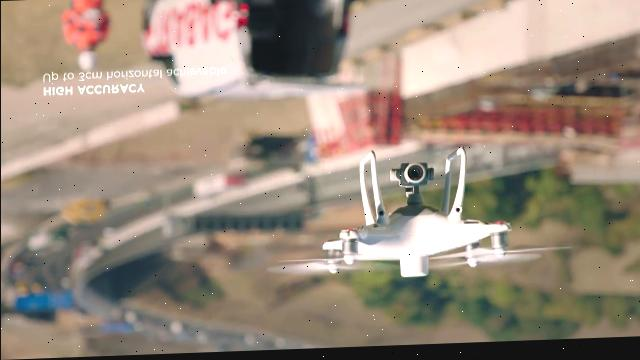drone: (264, 144, 574, 287)
